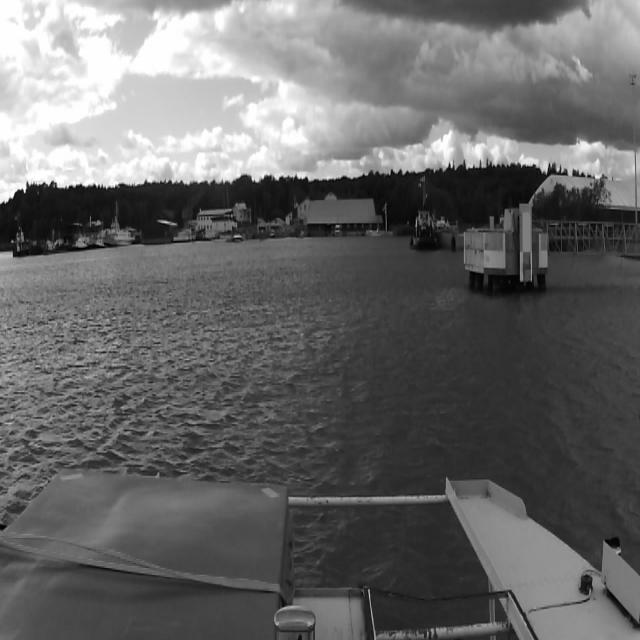ship: (411, 190, 440, 252), (332, 224, 343, 237)
